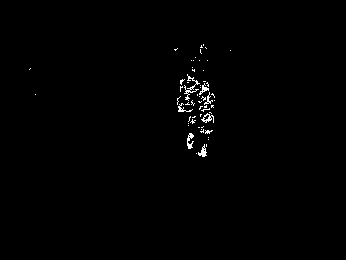person: (179, 71, 197, 150), (197, 79, 215, 156)
